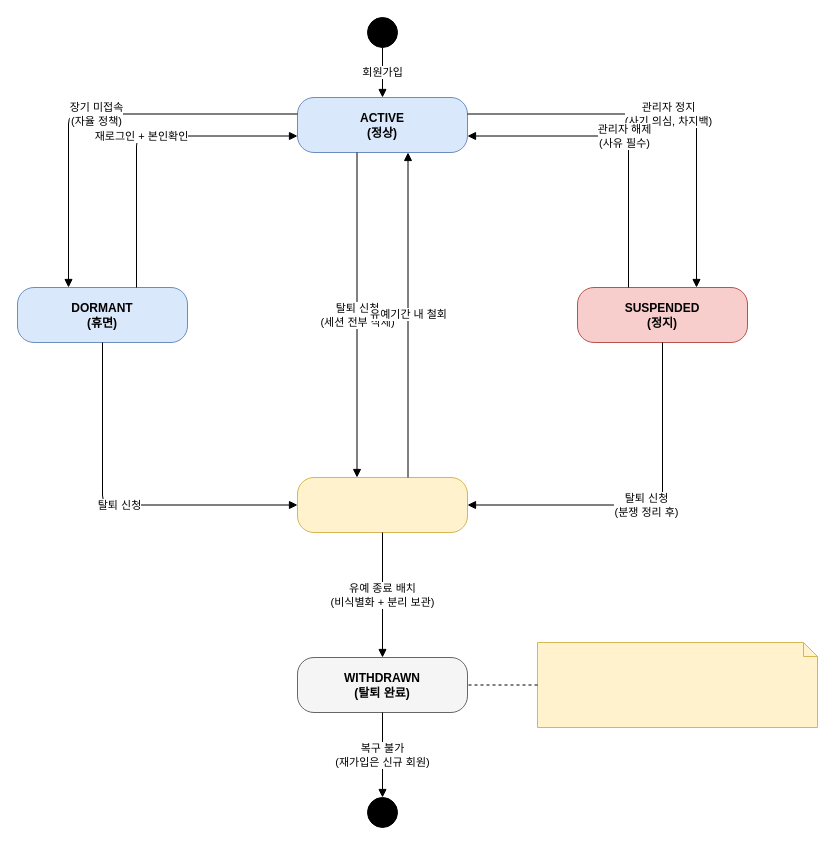
Some shapes in this 835 by 845 pixel diagram are drawn without their labels. The shapes that lost their labels are listed below. From the top down, each one's centre as x and y in pixels, then its label:
At point 382,504: "WITHDRAW_PENDING (탈퇴 유예)".
At point 677,685: "행은 유지 (주문 FK 보존) name = 탈퇴회원, email/phone = NULL 법정 보관분은 withdrawn_archive로 이동".
